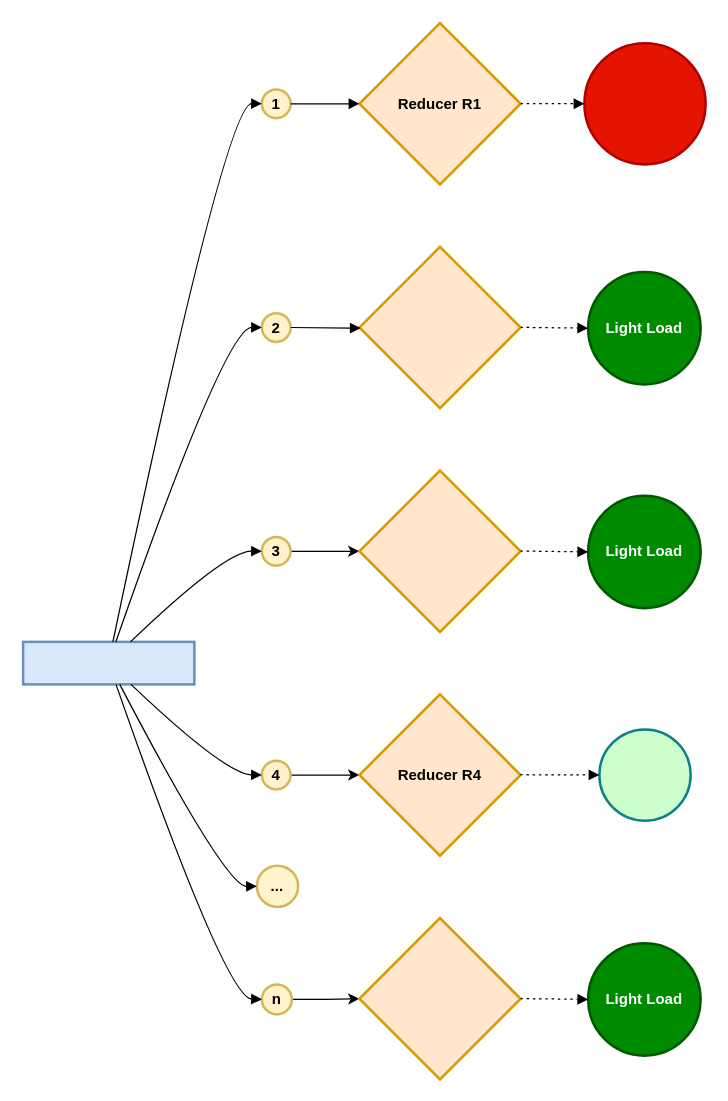
This 728x1101 diagram has some shape labels left out. Here are the shapes that lost their labels. From the top down, the centre of each, then its label:
At (644,103): "Heavy Load".
At (439,327): "Reducer R2".
At (439,550): "Reducer R3".
At (108,662): "Data Distribution".
At (644,774): "No Load".
At (439,998): "Reducer Rn".
